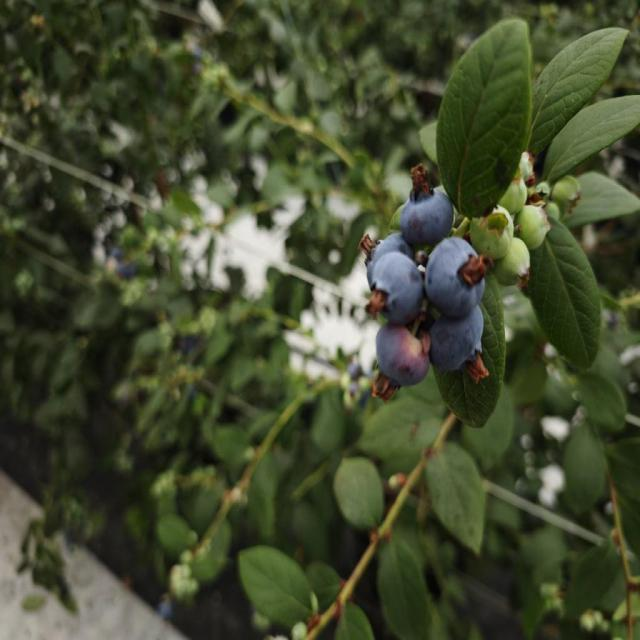RipeBlueBerry: (426, 236, 491, 327), (364, 241, 431, 317), (404, 178, 456, 244)
Semi-RipeBlueBerry: (373, 319, 433, 404)
UnripeBlueBerry: (472, 208, 514, 260), (494, 238, 531, 288), (518, 205, 551, 251)
